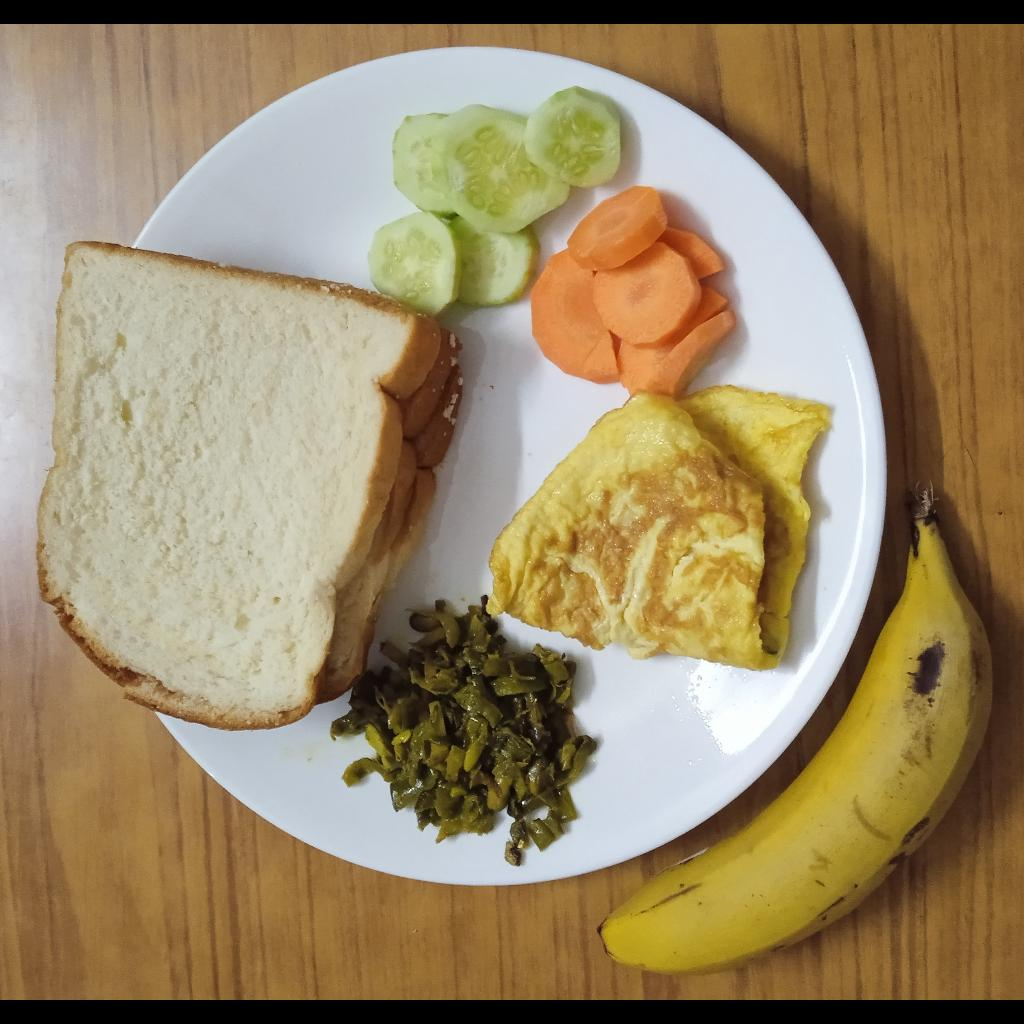banana: (597, 483, 993, 981)
bread: (37, 242, 465, 732)
carrot: (530, 185, 738, 398)
cucumber: (366, 85, 622, 318)
egg-poached: (487, 387, 830, 673)
shak: (328, 602, 595, 868)
